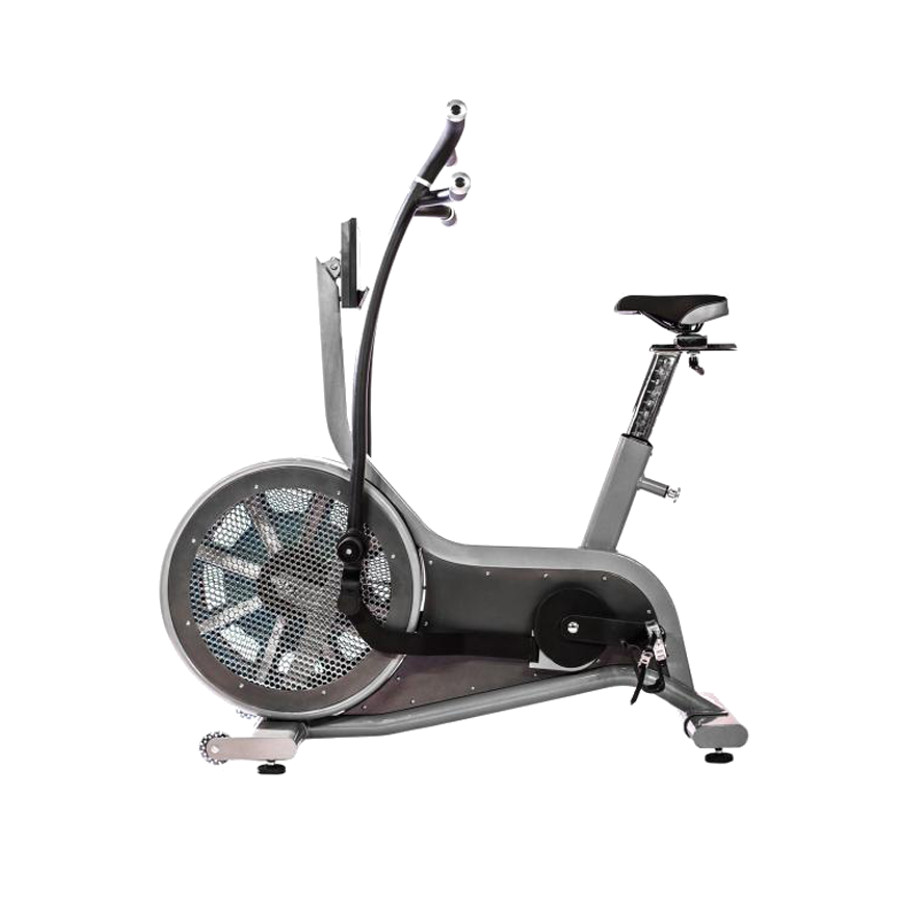gym_bike: (146, 98, 761, 773)
